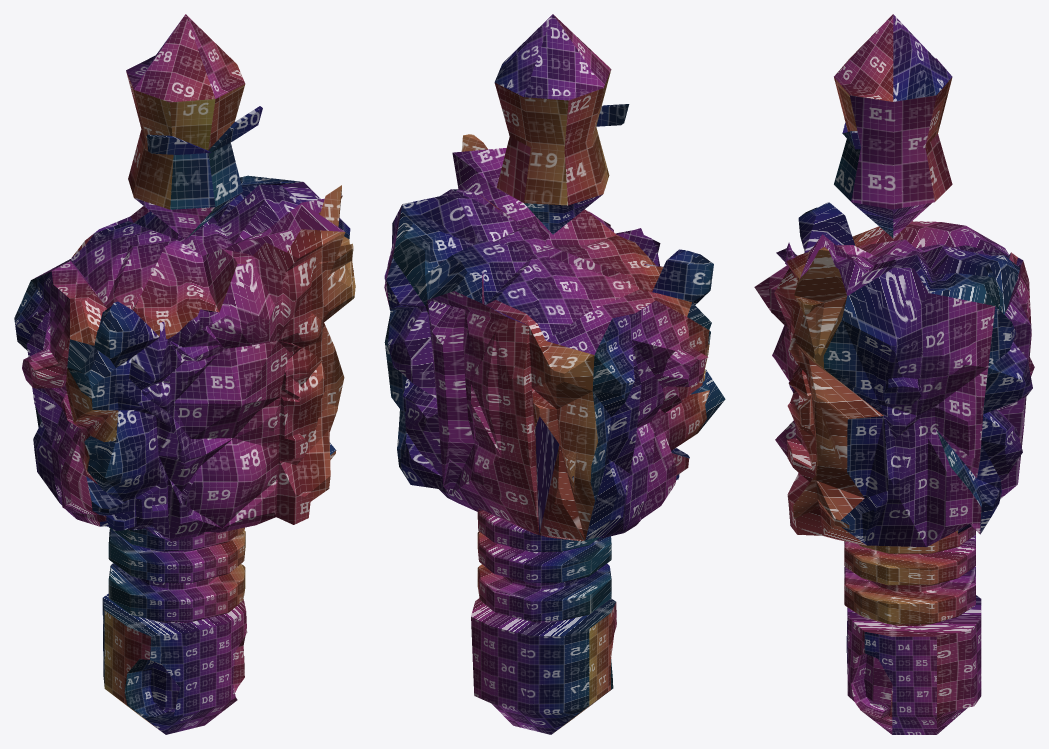
Rendered from RobotHeadTorso.fbx.
The picture shows the model from 3 angles, left to right: view 1: azimuth 30°, elevation 25°; view 2: azimuth 150°, elevation 25°; view 3: azimuth 270°, elevation 25°; orthographic projection. The views are drawn at different scales.
Visible parts, largest first — view 1: Chest, Head, Hips, torso; view 2: Chest, Head, Hips, torso; view 3: Chest, Head, Hips, torso.
Boxes of the visible parts, bbox=[...] form: Chest: bbox=[14, 175, 355, 541]; Head: bbox=[126, 14, 262, 239]; Hips: bbox=[102, 593, 247, 734]; torso: bbox=[108, 527, 245, 623]; Chest: bbox=[384, 134, 725, 541]; Head: bbox=[494, 14, 629, 234]; Hips: bbox=[471, 598, 616, 734]; torso: bbox=[477, 510, 611, 622]; Chest: bbox=[754, 202, 1034, 547]; Head: bbox=[834, 14, 952, 238]; Hips: bbox=[846, 595, 981, 734]; torso: bbox=[844, 526, 975, 625].
Size of the model in its own units: 2.75 by 5.87 by 2.1.
